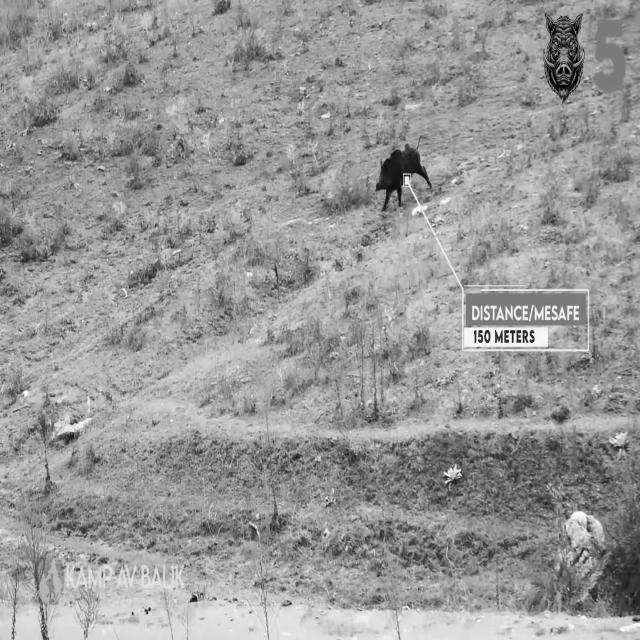boar: (544, 11, 585, 101), (376, 143, 431, 210)
